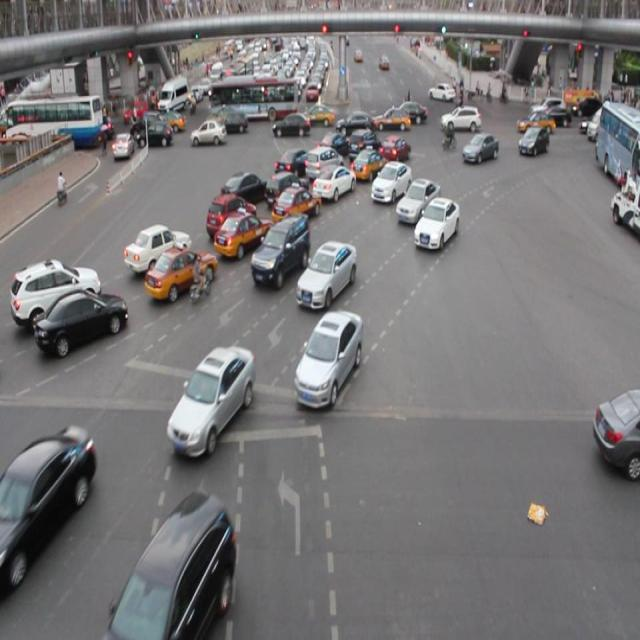car: (101, 493, 234, 640), (1, 427, 95, 582), (167, 345, 253, 457), (292, 310, 362, 406), (35, 286, 126, 354), (12, 256, 100, 319), (592, 387, 640, 478), (251, 211, 309, 284), (296, 241, 356, 309), (145, 245, 215, 302), (122, 222, 191, 271), (215, 208, 272, 258), (412, 196, 457, 248), (205, 192, 258, 236), (395, 177, 439, 224), (270, 185, 320, 226), (371, 160, 411, 203), (264, 170, 309, 208), (310, 165, 354, 202), (221, 170, 267, 202), (350, 146, 388, 181), (274, 148, 315, 179), (346, 128, 380, 162), (461, 132, 497, 164), (516, 125, 547, 158), (378, 135, 410, 164), (316, 131, 349, 158)
truck: (304, 146, 344, 182)
